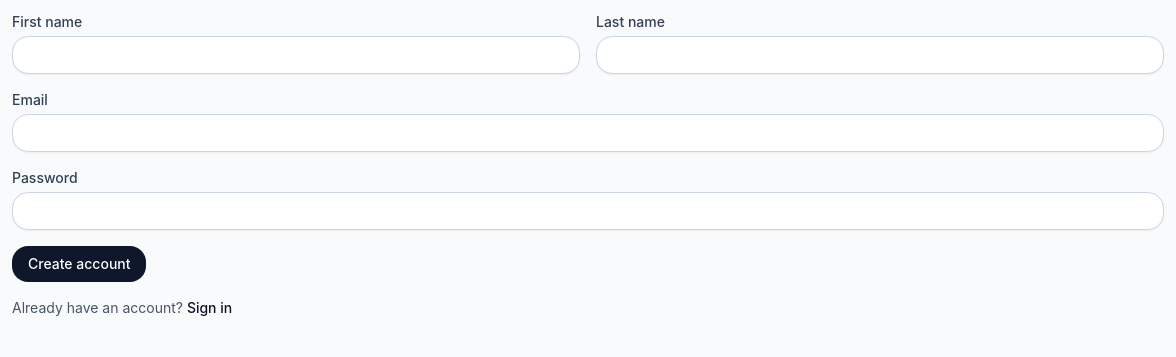
Test: RegisterForm validation › shows password length validation error
Type "Alex" into the field labelled "First name".
click(296, 55); type("Alex")  # box top-left (12, 36), bottom-right (580, 74)
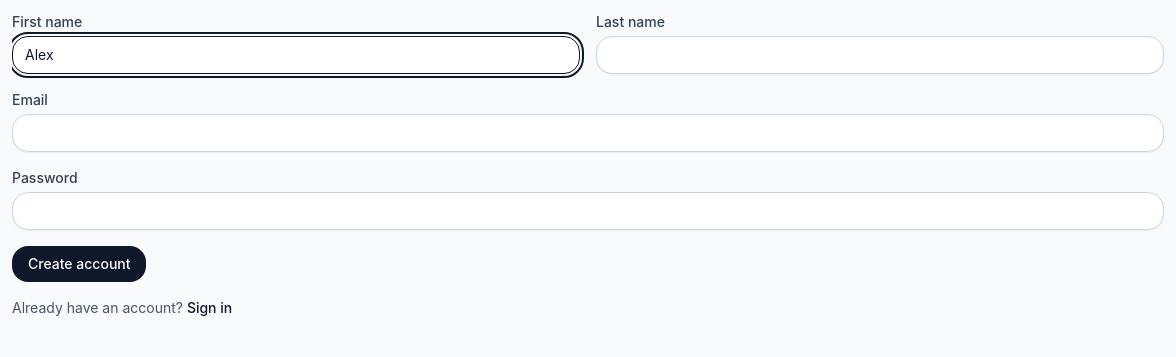
Type "Buyer" into the field labelled "Last name".
click(880, 55); type("Buyer")  # box top-left (596, 36), bottom-right (1164, 74)
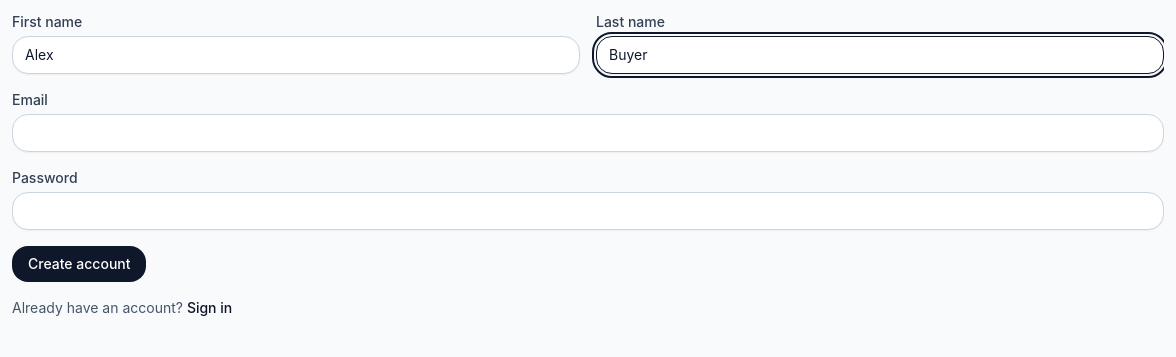
Type "buyer@example.com" into the field labelled "Email".
click(588, 133); type("buyer@example.com")  # box top-left (12, 114), bottom-right (1164, 152)
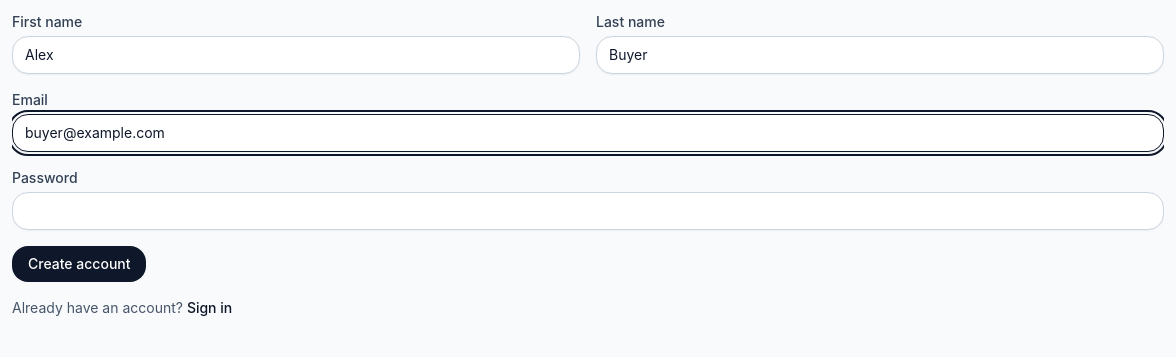
Type "short" into the password field labelled "Password".
click(588, 211); type("short")  # box top-left (12, 192), bottom-right (1164, 230)
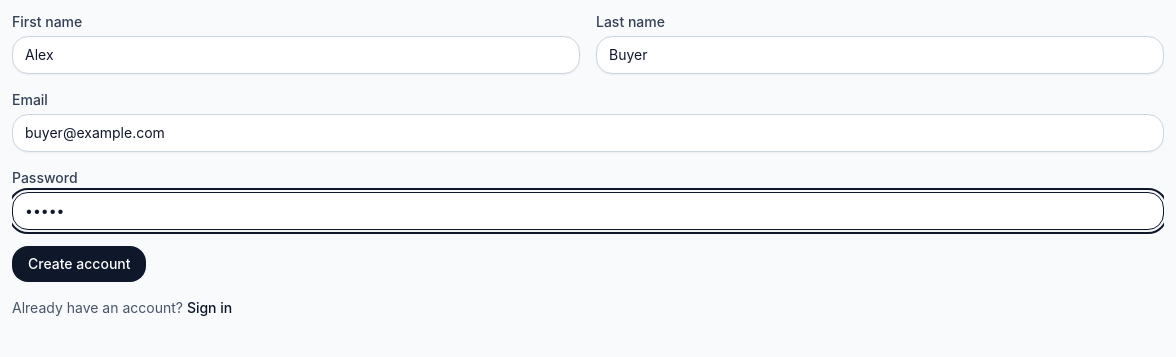
Click the button "Create account".
click(79, 264)  # box top-left (12, 246), bottom-right (146, 282)
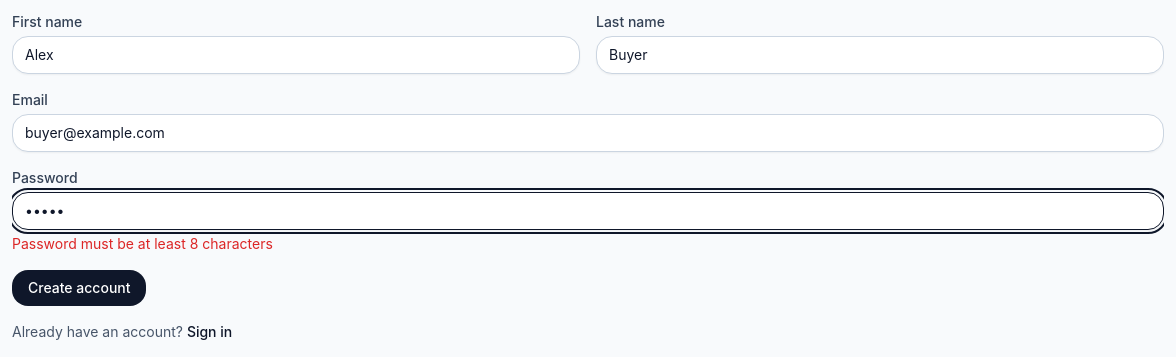
Now the text "Password must be at least 8 characters" is shown, box top-left (12, 235), bottom-right (273, 252)
